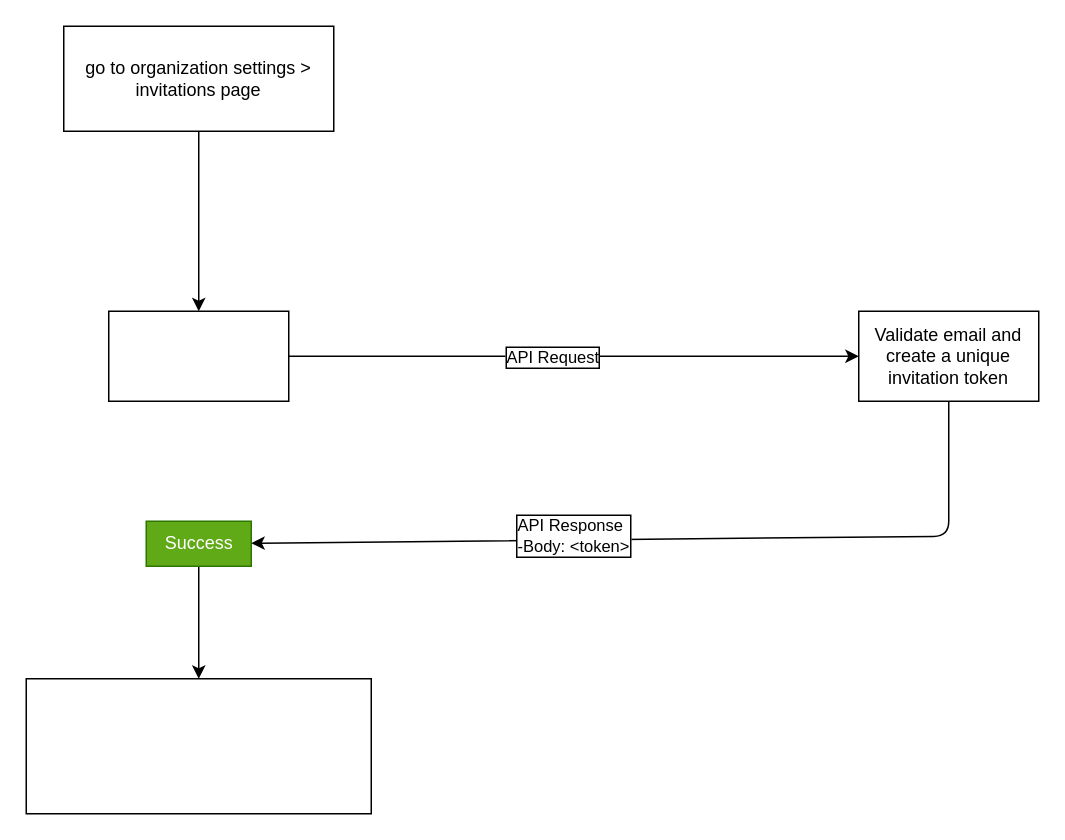
Image size: 1065x840. Some labels were removed from this diagram. Here are the shapes that lost their labels. From the top down, the centre of each, then its label:
At pixel 198 355: "Enter email and submit".
At pixel 198 745: "Send mail with invitation link: http://domain.com/auth/invitation/<token>".
